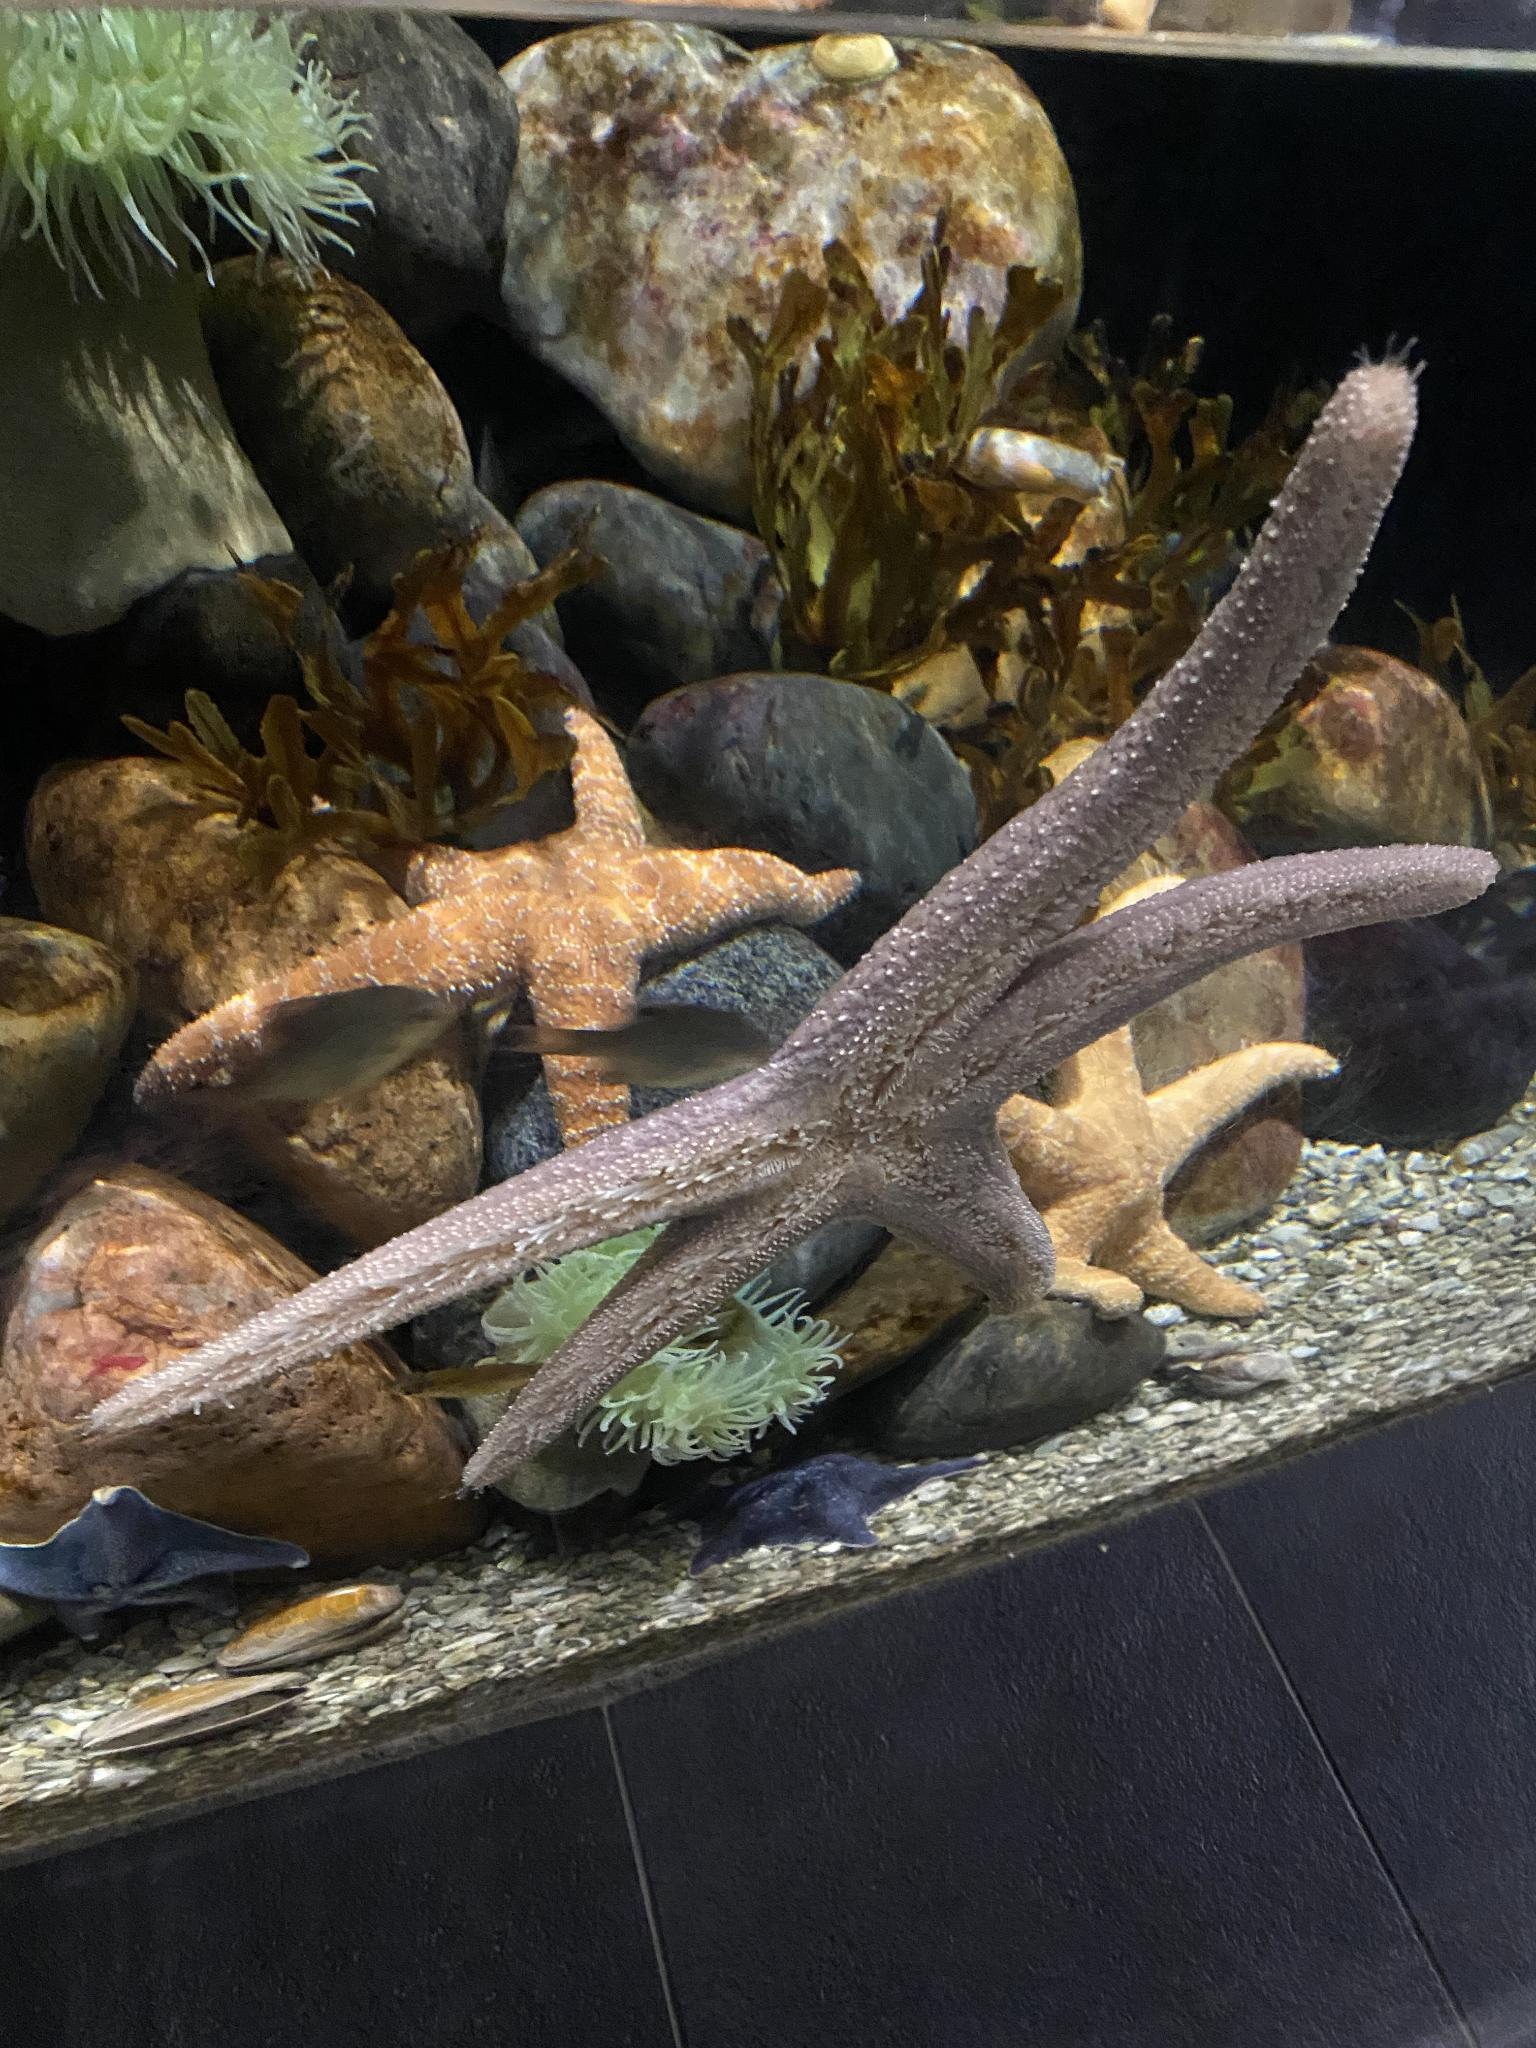starfish: (86, 360, 1497, 1493), (131, 706, 866, 1155), (995, 876, 1342, 1324), (3, 1482, 311, 1643), (644, 1450, 995, 1576)
